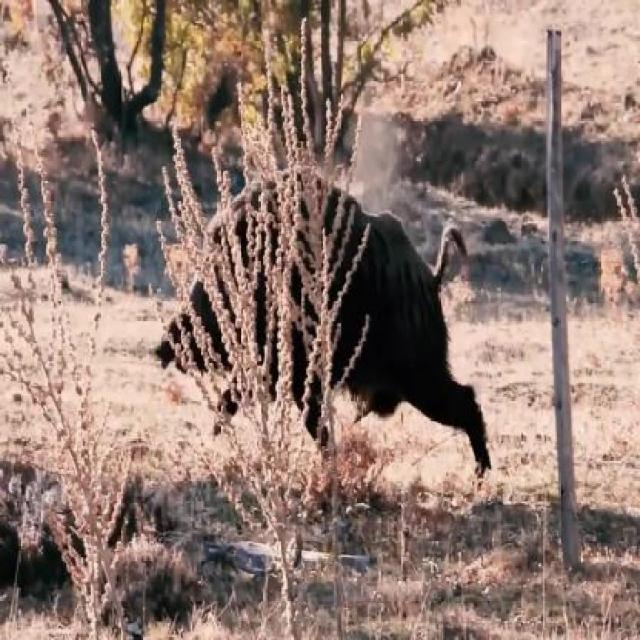pig: (157, 171, 491, 469)
